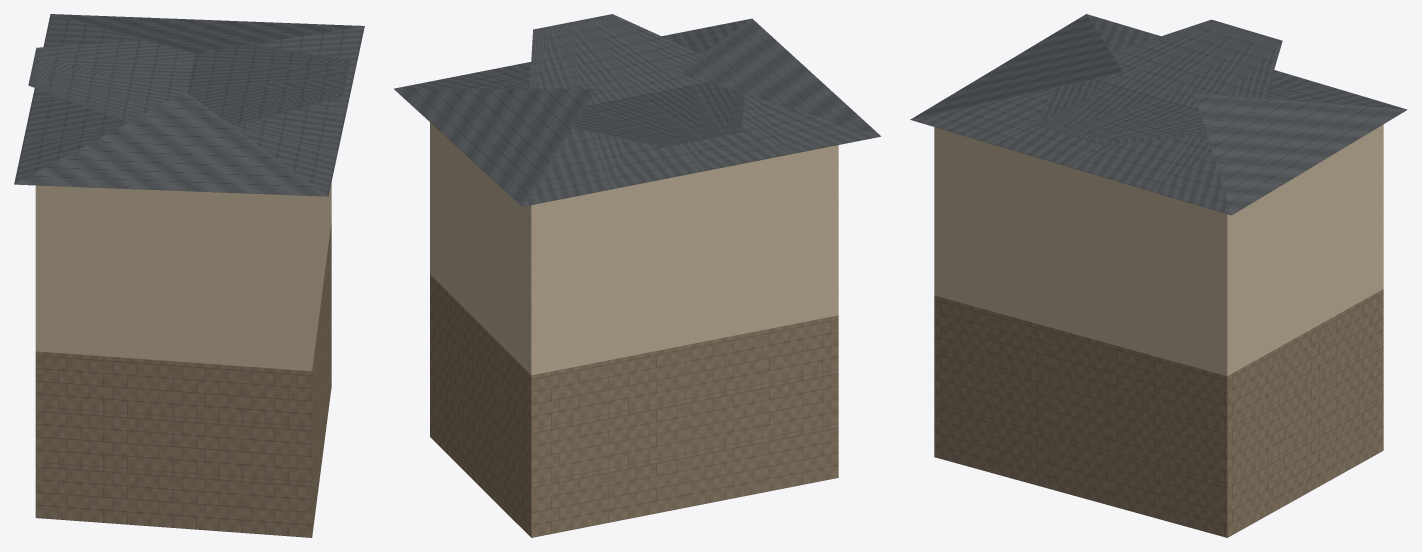
The model's file is bld_c-4_9_558.gltf.
3 views of the same model, side by side, from view 1: azimuth 30°, elevation 25°; view 2: azimuth 150°, elevation 25°; view 3: azimuth 270°, elevation 25° (orthographic). The views are drawn at different scales.
Parts seen in each view (by area): view 1: bld_c-4_9_558; view 2: bld_c-4_9_558; view 3: bld_c-4_9_558.
Boxes of the visible parts, x1,y1,x2,y2 form: bld_c-4_9_558: [14, 14, 364, 537]; bld_c-4_9_558: [394, 14, 880, 537]; bld_c-4_9_558: [910, 14, 1407, 537].
Bounding box in the file's own units: 13.63 × 11.7 × 14.23.
3 materials, 3 textured.
